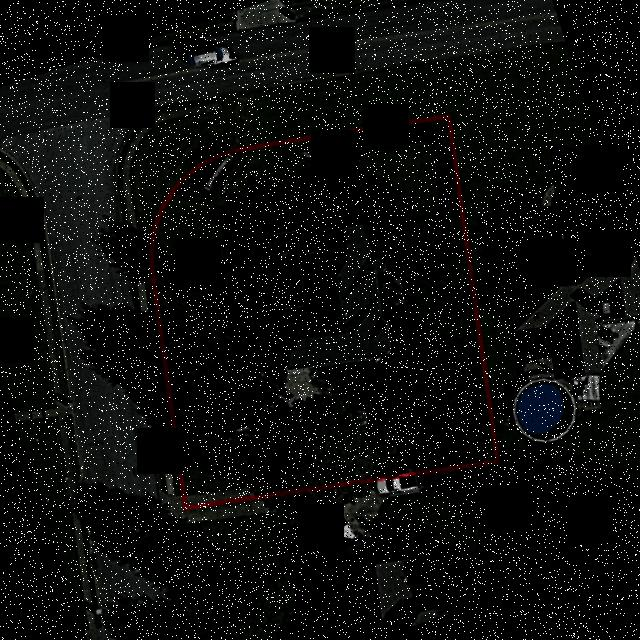Driveway: (177, 266, 367, 460)
Extra Lawn: (130, 60, 450, 237), (119, 97, 218, 227), (155, 457, 167, 491)
Extra Sidewalk: (122, 100, 223, 229), (152, 426, 182, 513), (136, 280, 149, 313)
House: (276, 222, 392, 369)
